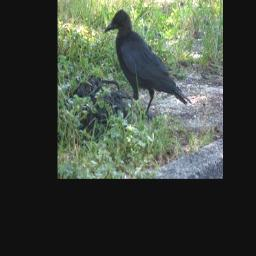Crow: (105, 9, 193, 121)
